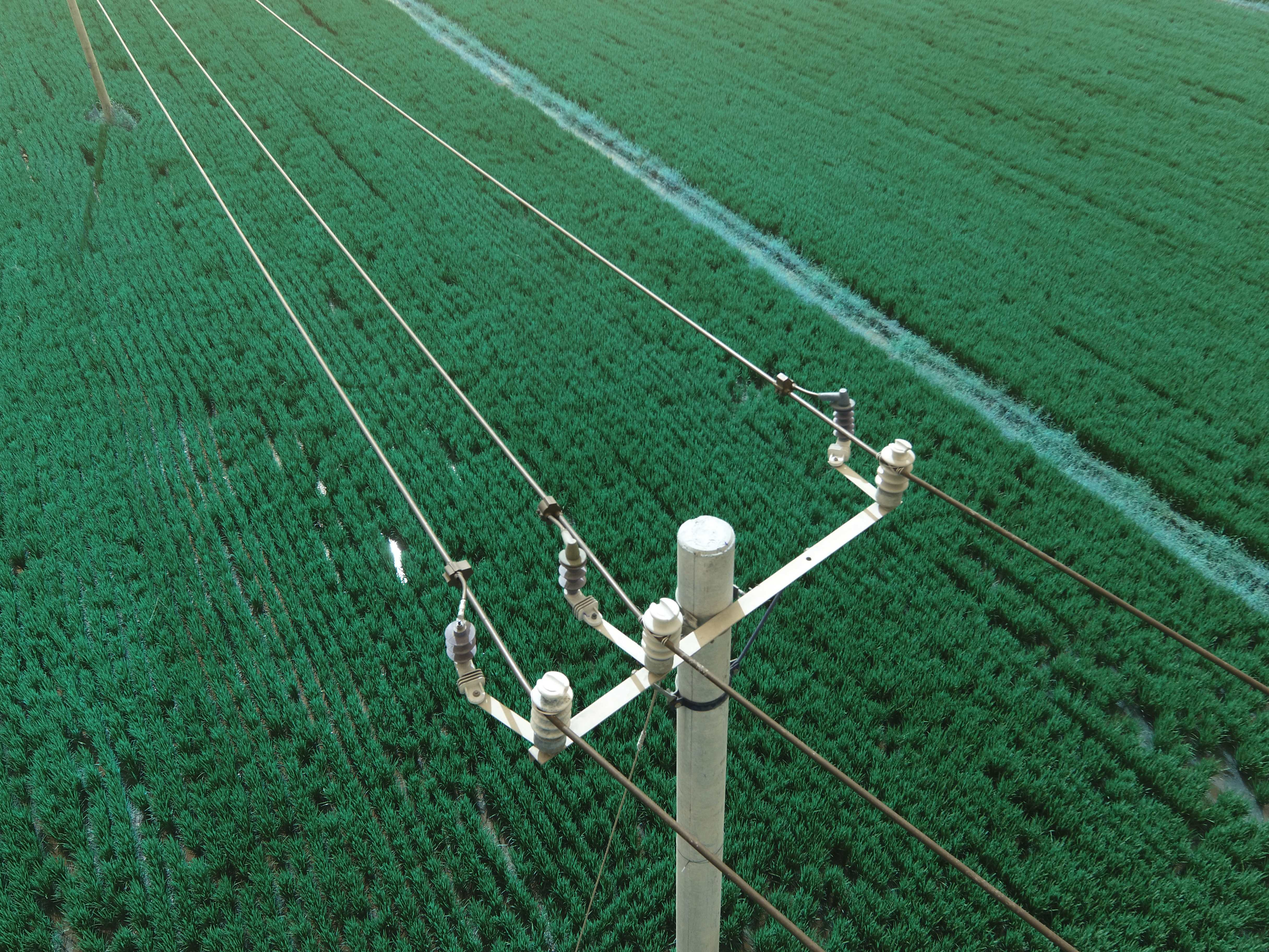severe_soiling_no_discharge_whole: (526, 667, 578, 756)
